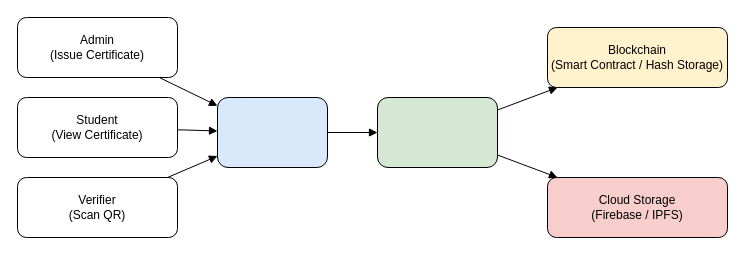
Image size: 745x255. Some labels were removed from this diagram. Each missing label, with the centre of its shape:
Application Layer (Web / Mobile): the point at 272,132
Backend (Node.js / Firebase): the point at 437,132
